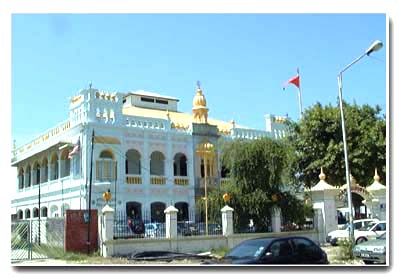Gurdwara: (26, 75, 299, 240)
